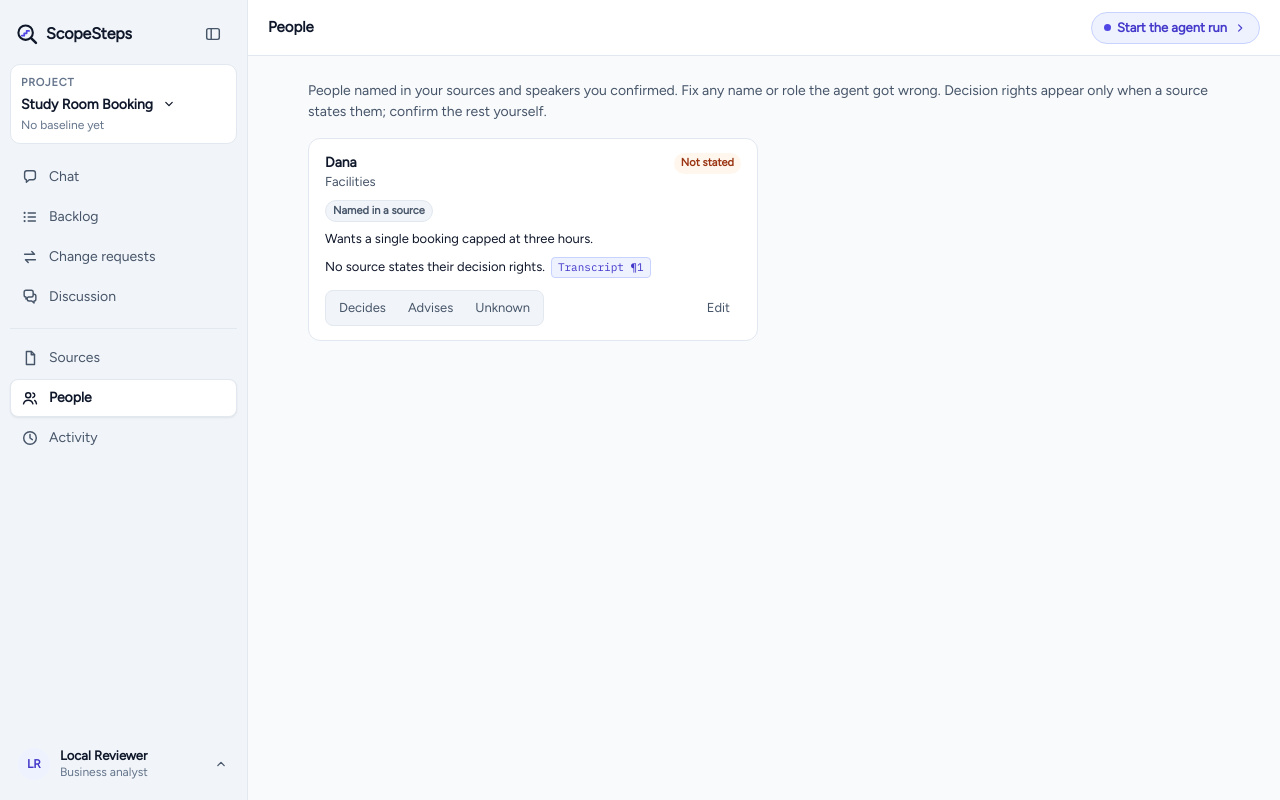
Test case: People page › says someone else changed the person on a 409 and reloads instead of retrying
The width and height of the screenshot is (1280, 800).
Check: the element "Dana" is shown, box top-left (308, 138), bottom-right (758, 341)
Step 1. Click the button "Advises" → (431, 308), box top-left (398, 294), bottom-right (463, 322)
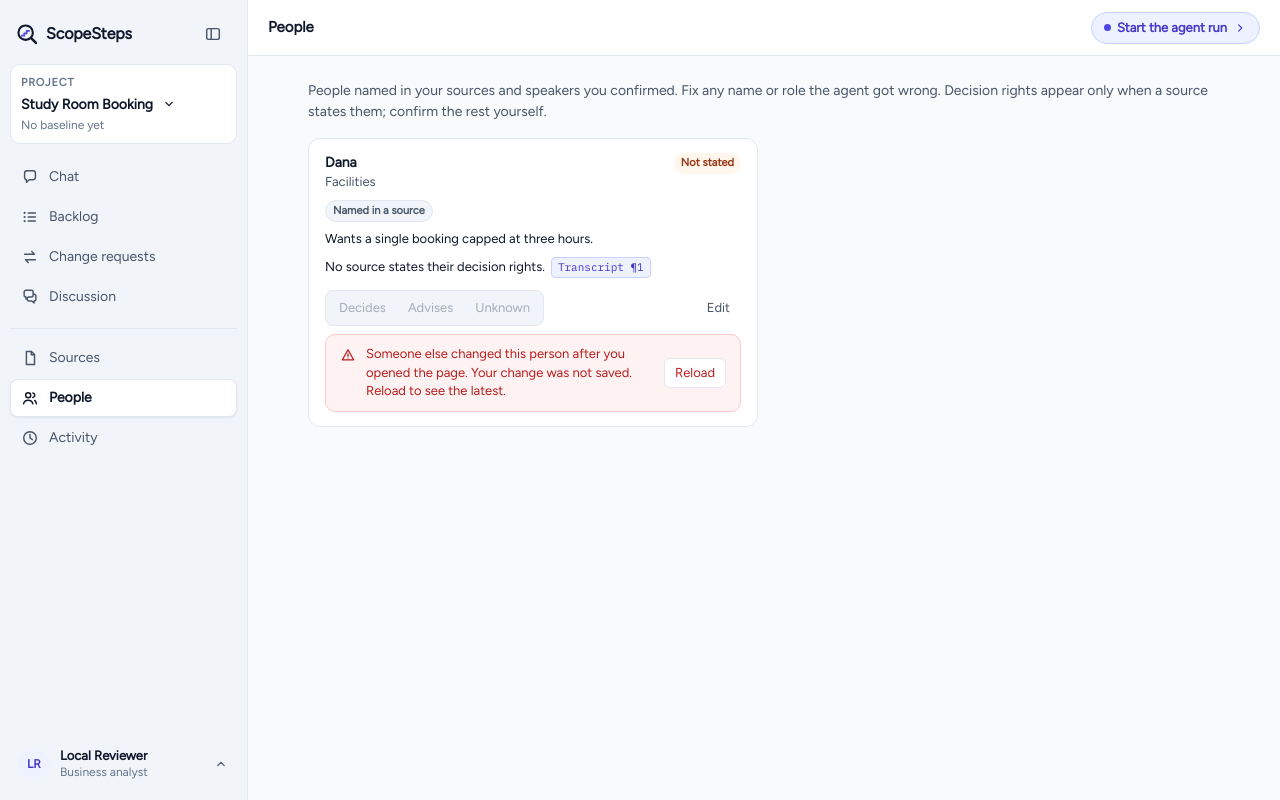
Check: the message shows "Someone else changed this person", box top-left (366, 346), bottom-right (625, 380)
Check: the button "Advises" is disabled, box top-left (398, 294), bottom-right (463, 322)
Step 2. Click the button "Reload" → (695, 373), box top-left (664, 358), bottom-right (726, 388)
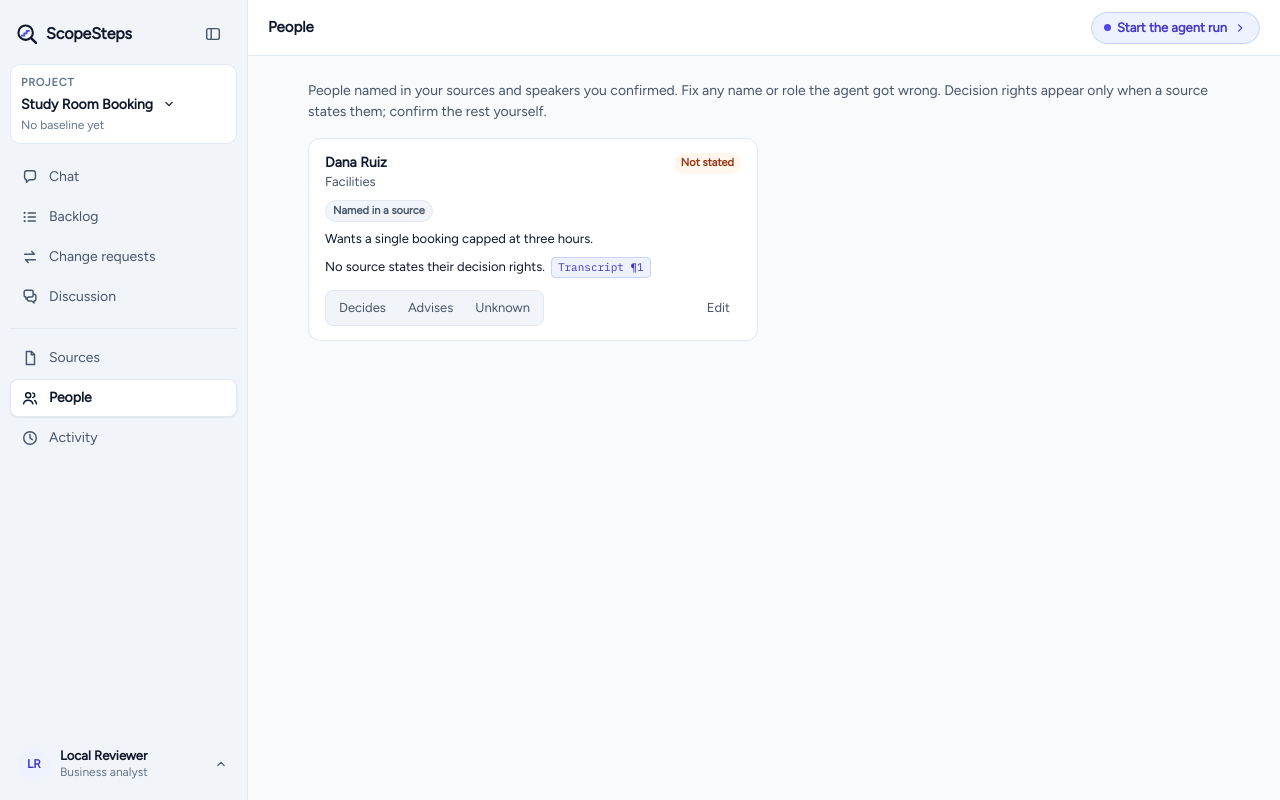
Check: the element "Dana Ruiz" is shown, box top-left (308, 138), bottom-right (758, 341)
Check: the message "Someone else changed this person after you opened the page. Your change was not" is gone
Check: the button "Advises" is enabled, box top-left (398, 294), bottom-right (463, 322)
